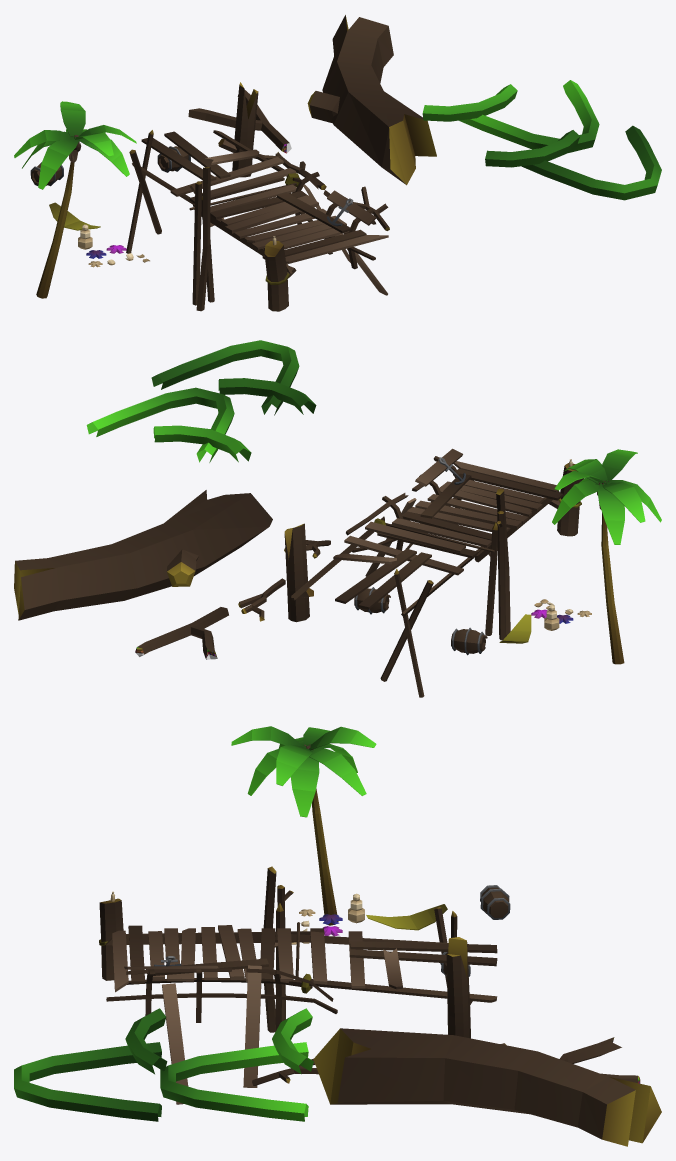
File: beachprops (1) 1.fbx
The picture shows the model from 3 angles, top to bottom: view 1: azimuth 30°, elevation 25°; view 2: azimuth 150°, elevation 25°; view 3: azimuth 270°, elevation 25°; orthographic projection. The views are drawn at different scales.
Visible parts, largest first — view 1: Dock, DriftwoodLog, TreeOne, CaveVineB, VineB, CaveVineA, VineA, polySurface7, DeadLeaf; view 2: Dock, DriftwoodLog, TreeOne, VineB, CaveVineB, VineA, CaveVineA, polySurface7, Dock1, polySurface4, DeadLeaf; view 3: Dock, DriftwoodLog, TreeOne, CaveVineB, VineB, VineA, CaveVineA, polySurface7, DeadLeaf, Dock1.
Boxes of the visible parts, x1=… form: Dock: x1=126, y1=82, x2=388, y2=311; DriftwoodLog: x1=307, y1=15, x2=436, y2=185; TreeOne: x1=14, y1=101, x2=136, y2=298; CaveVineB: x1=522, y1=125, x2=661, y2=200; VineB: x1=459, y1=80, x2=599, y2=153; CaveVineA: x1=485, y1=130, x2=579, y2=167; VineA: x1=422, y1=84, x2=517, y2=121; polySurface7: x1=188, y1=90, x2=291, y2=153; DeadLeaf: x1=49, y1=202, x2=100, y2=230; Dock: x1=284, y1=448, x2=584, y2=697; DriftwoodLog: x1=14, y1=490, x2=272, y2=620; TreeOne: x1=552, y1=449, x2=661, y2=664; VineB: x1=86, y1=387, x2=234, y2=462; CaveVineB: x1=151, y1=340, x2=299, y2=415; VineA: x1=153, y1=425, x2=251, y2=462; CaveVineA: x1=218, y1=378, x2=316, y2=414; polySurface7: x1=135, y1=607, x2=228, y2=659; Dock1: x1=451, y1=627, x2=487, y2=655; polySurface4: x1=238, y1=578, x2=285, y2=621; DeadLeaf: x1=499, y1=614, x2=531, y2=643; Dock: x1=99, y1=866, x2=497, y2=1104; DriftwoodLog: x1=313, y1=1028, x2=661, y2=1146; TreeOne: x1=231, y1=726, x2=376, y2=925; CaveVineB: x1=14, y1=1042, x2=161, y2=1121; VineB: x1=160, y1=1042, x2=308, y2=1121; VineA: x1=272, y1=1008, x2=313, y2=1074; CaveVineA: x1=125, y1=1008, x2=167, y2=1074; polySurface7: x1=560, y1=1037, x2=640, y2=1083; DeadLeaf: x1=366, y1=904, x2=447, y2=930; Dock1: x1=480, y1=885, x2=510, y2=919.
Size of the model in its own units: 1279 by 459 by 1111.
